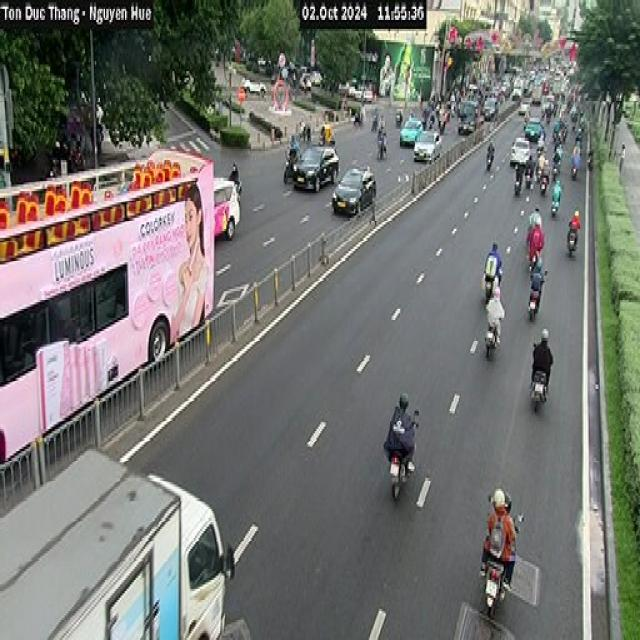bus: (0, 147, 214, 442)
car: (334, 159, 379, 211), (210, 179, 242, 246), (294, 146, 338, 190), (413, 128, 442, 166), (401, 112, 423, 143), (512, 132, 530, 166), (524, 116, 546, 143)
motorcycle: (485, 536, 511, 614), (386, 439, 416, 500), (531, 367, 547, 411), (485, 316, 498, 360), (479, 272, 506, 293), (282, 150, 295, 190), (528, 288, 540, 323), (567, 224, 576, 262), (551, 190, 560, 220), (529, 246, 538, 274), (512, 177, 523, 198), (542, 174, 548, 197), (485, 156, 493, 172)
person: (500, 491, 520, 560), (492, 480, 506, 561), (396, 392, 410, 454), (537, 322, 552, 377), (486, 281, 500, 337), (532, 254, 546, 304), (490, 232, 500, 284), (571, 205, 582, 235), (554, 177, 562, 205), (488, 134, 495, 164), (230, 160, 239, 182), (621, 143, 626, 175), (572, 149, 580, 167)
truck: (1, 448, 230, 640), (461, 92, 486, 144)
